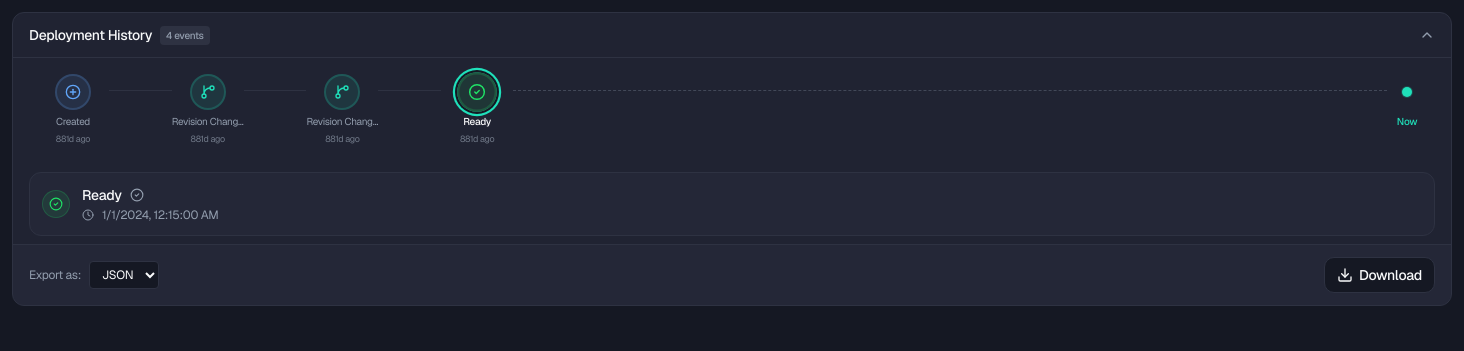
Test case: DeploymentTimeline › renders RevisionChanged events with correct label
expect the text "Revision Changed" is shown 2 times: met, box left=172, top=116, right=244, bottom=128; left=306, top=116, right=378, bottom=128
expect the text "4 events" is shown: met, box left=160, top=26, right=210, bottom=44
# Click on first RevisionChanged node to see its detail
Click the 1st button "Revision Changed 881d ago": [208, 109] box left=172, top=74, right=244, bottom=144
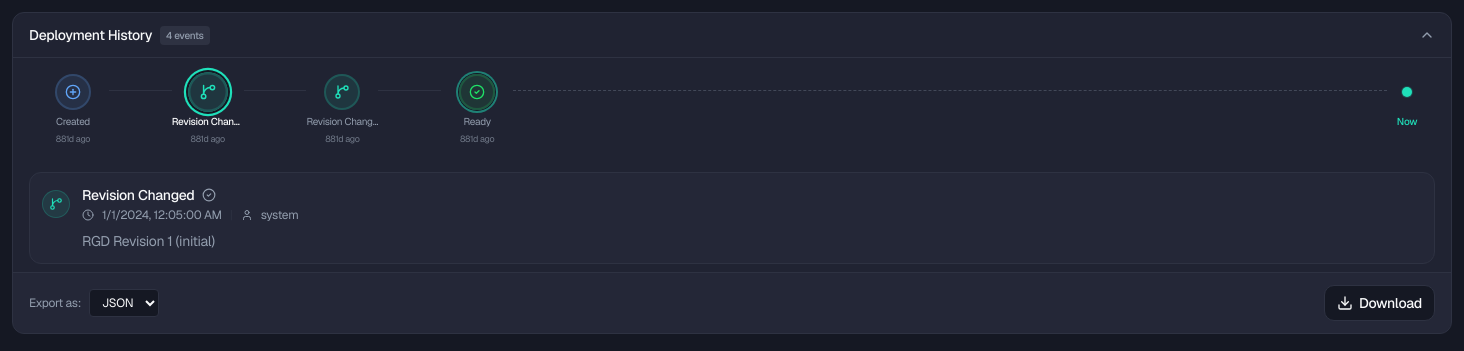
expect the text "RGD Revision 1 (initial)" is shown: met, box left=82, top=232, right=215, bottom=250
# Click on second RevisionChanged node to see its detail
Click the 2nd button "Revision Changed 881d ago": [342, 109] box left=306, top=74, right=378, bottom=144
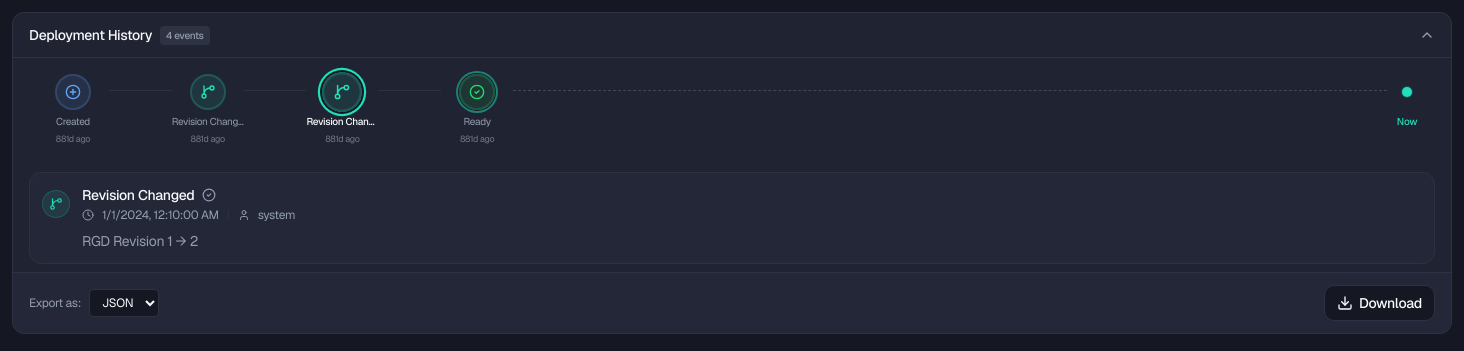
expect the text "RGD Revision 1 → 2" is shown: met, box left=82, top=232, right=198, bottom=250
